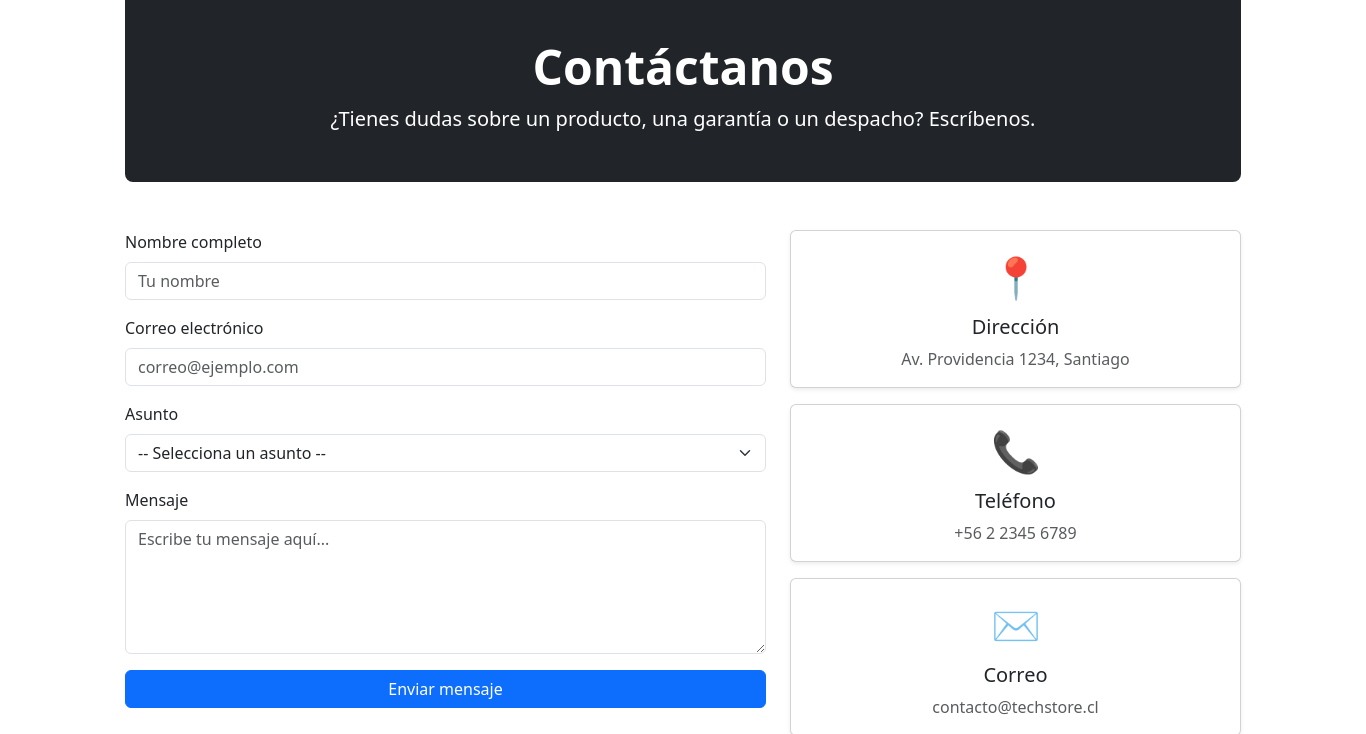
Test: Contacto › muestra errores al enviar el formulario vacío
The width and height of the screenshot is (1366, 734).
Click the button "Enviar mensaje" at [446, 689], box 125,670 -> 766,708
(page scrolled)
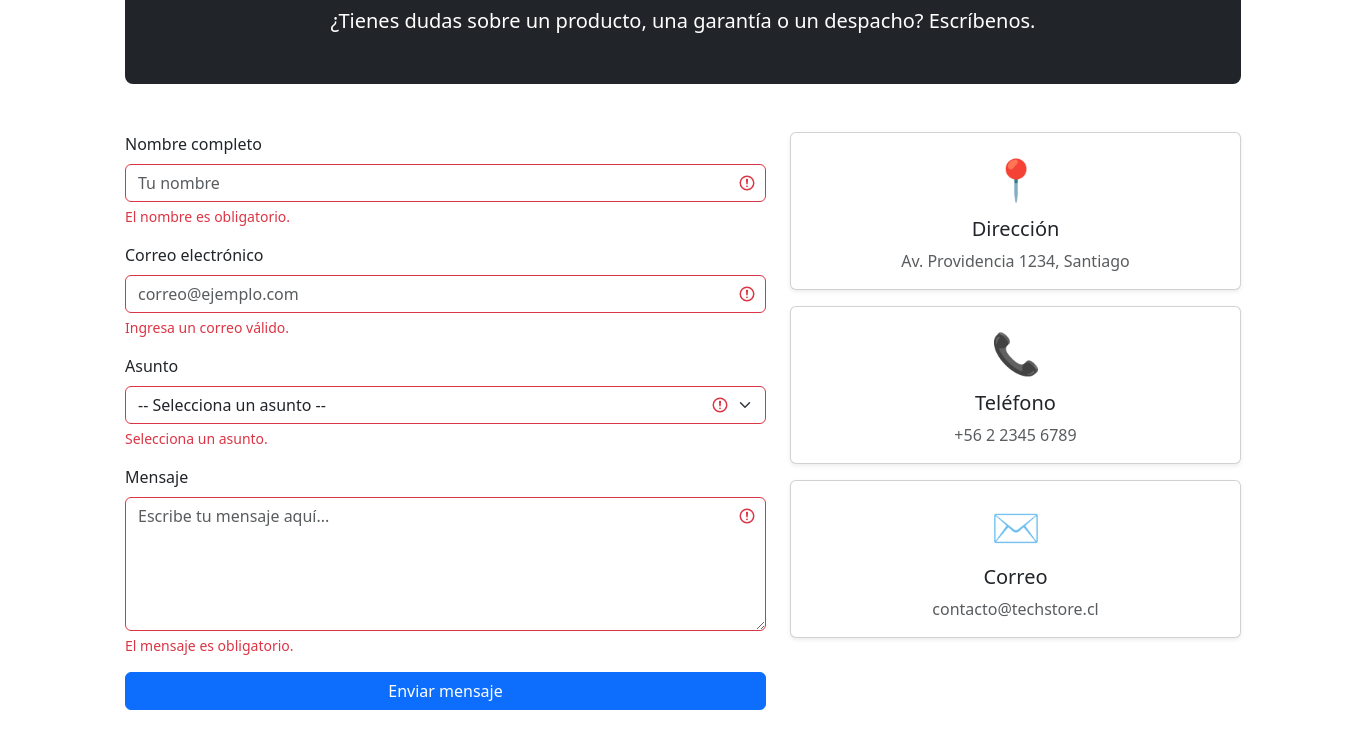
Check: the text "El nombre es obligatorio." is shown, box 125,207 -> 290,226
Check: the text "Ingresa un correo válido." is shown, box 125,318 -> 289,337
Check: the text "Selecciona un asunto." is shown, box 125,429 -> 268,448
